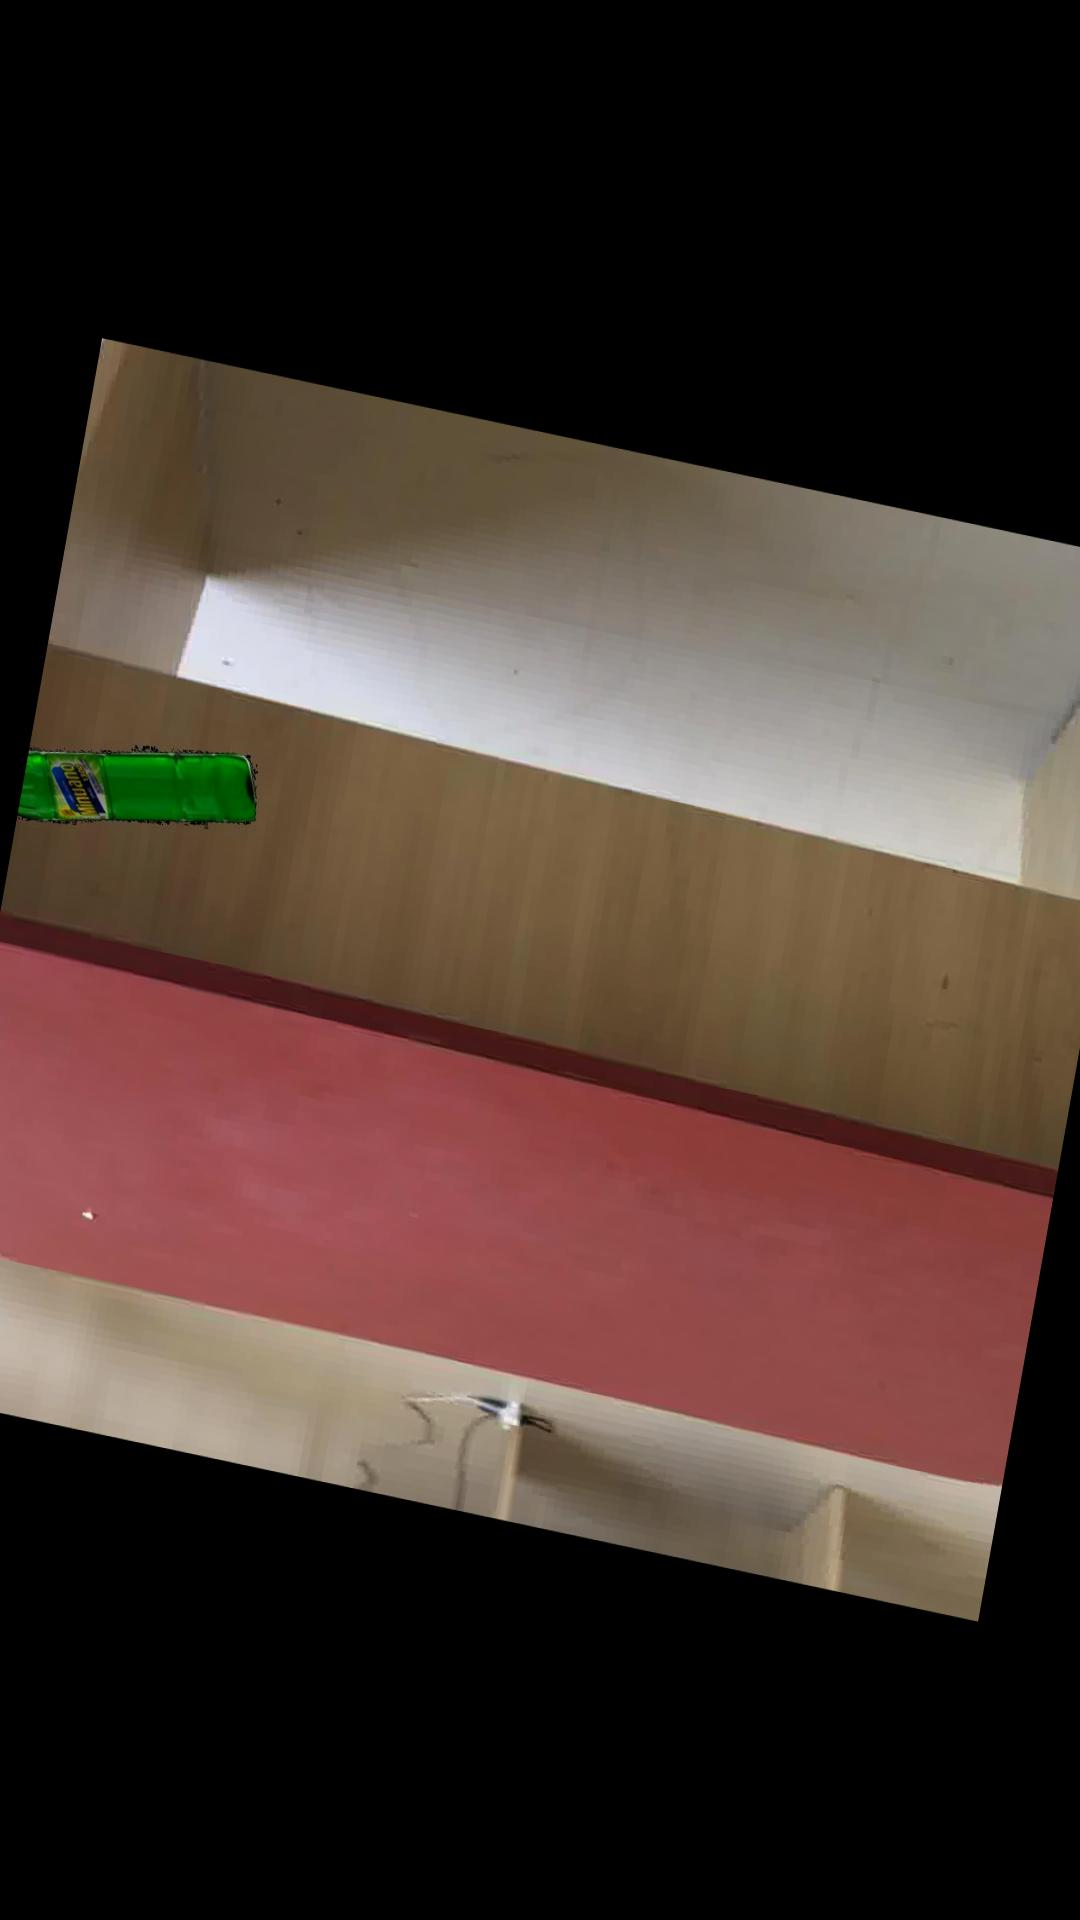cleaner: (17, 742, 255, 823)
